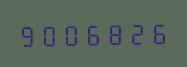eight: (105, 19, 126, 46)
nine: (17, 21, 38, 47)
six: (83, 20, 104, 46), (149, 19, 170, 45)
two: (127, 19, 148, 46)
zero: (39, 20, 60, 47), (61, 20, 82, 47)
